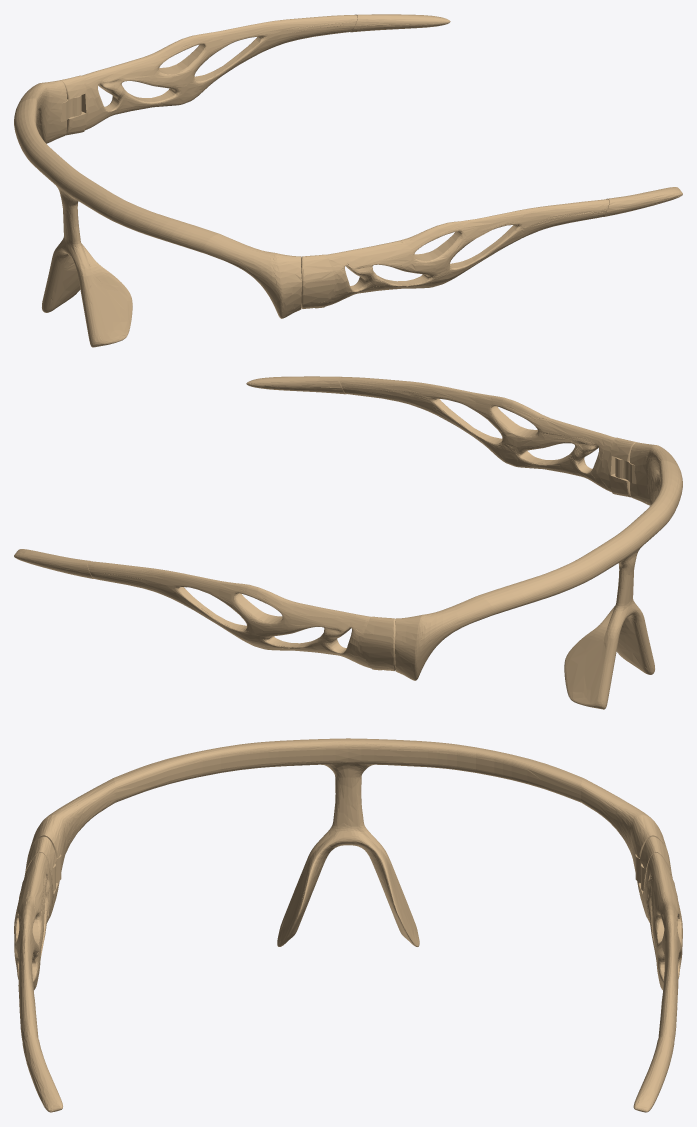
Rendered from ovum.glb.
3 views of the same model, one above another, from view 1: azimuth 30°, elevation 25°; view 2: azimuth 150°, elevation 25°; view 3: azimuth 270°, elevation 25° (orthographic). The views are drawn at different scales.
Visible parts, largest first — view 1: geometry_0; view 2: geometry_0; view 3: geometry_0.
Boxes of the visible parts, bbox=[...] form: geometry_0: bbox=[14, 14, 682, 347]; geometry_0: bbox=[14, 376, 682, 709]; geometry_0: bbox=[14, 738, 682, 1112].
Size of the model in its own units: 1 by 0.2997 by 0.9149.
